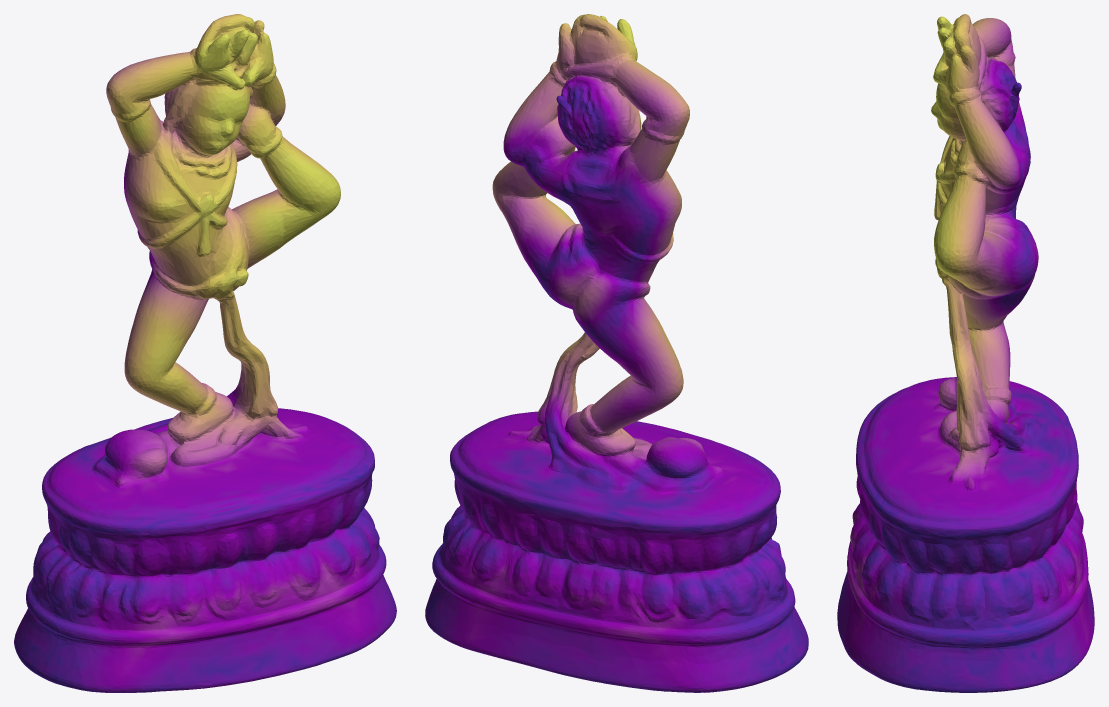
Rendered from iter_19.glb.
The picture shows the model from 3 angles, left to right: view 1: azimuth 30°, elevation 25°; view 2: azimuth 150°, elevation 25°; view 3: azimuth 270°, elevation 25°; orthographic projection.
Visible parts, largest first — view 1: textured_mesh; view 2: textured_mesh; view 3: textured_mesh.
Part boxes in pixels (x1=…): textured_mesh: x1=14, y1=14, x2=396, y2=692; textured_mesh: x1=425, y1=14, x2=808, y2=692; textured_mesh: x1=837, y1=14, x2=1094, y2=692.
Size of the model in its own units: 1.18 by 1.99 by 0.7636.
